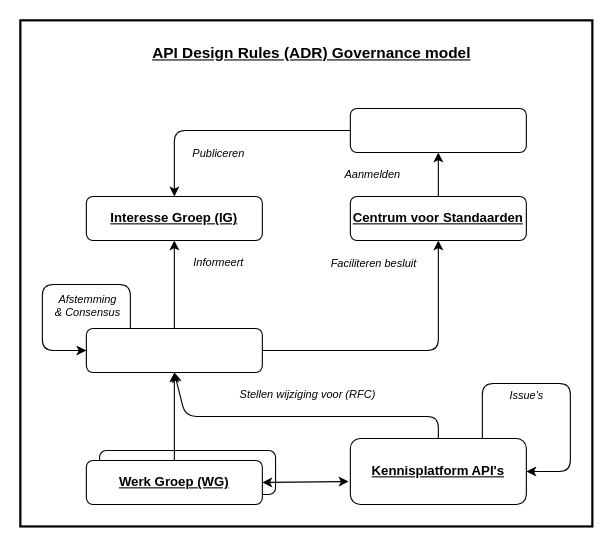
Image size: 612x547. Some labels were removed from this diagram. The centre of each missing label's shape, as x and y in pixels:
Forum Standaardisatie: point (437, 129)
Technisch Architectuur Groep (TAG): point (173, 349)
